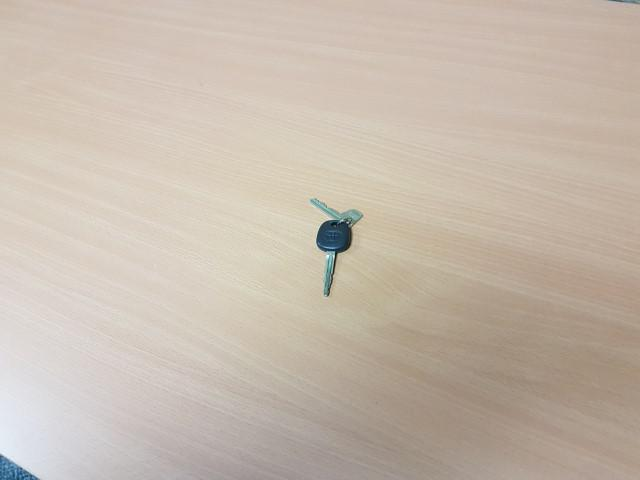key: (317, 220, 352, 297)
